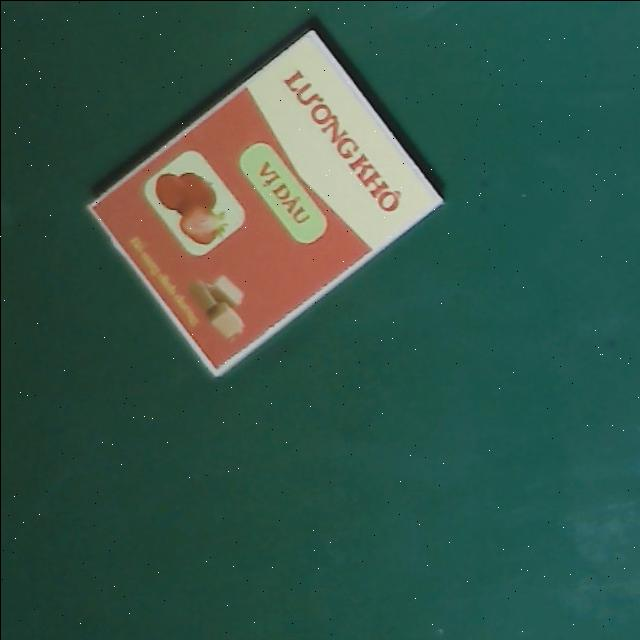dau: (81, 26, 446, 378)
